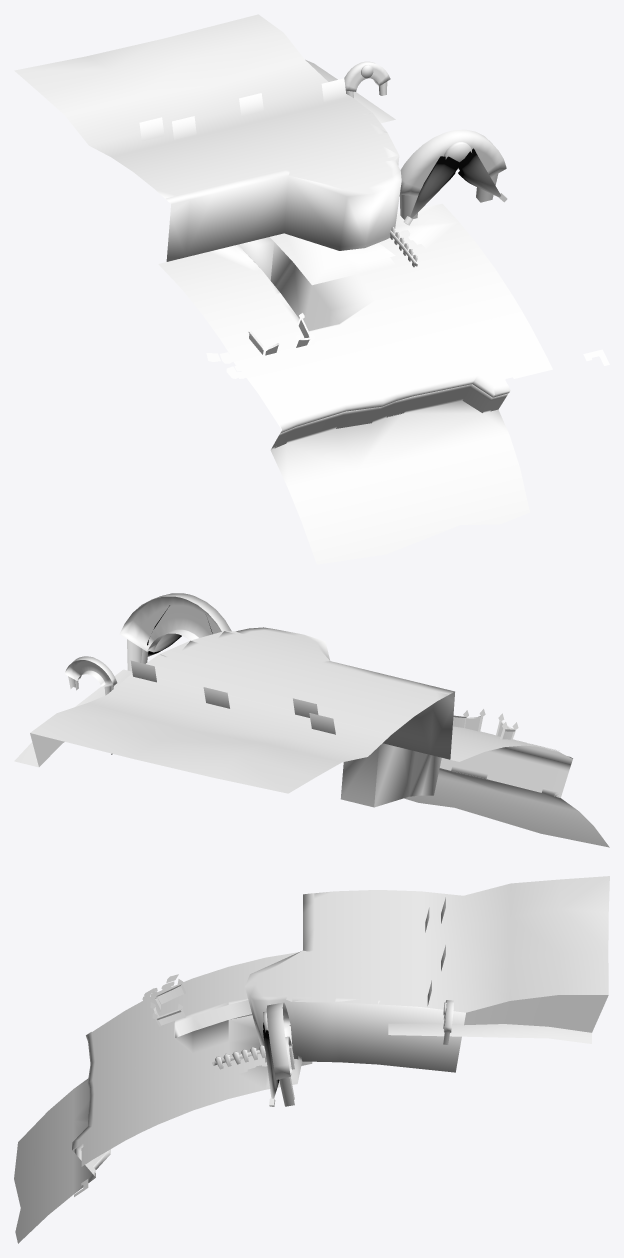
Rendered from grd_Dtn_nc_0.dae.
The picture shows the model from 3 angles, top to bottom: view 1: azimuth 30°, elevation 25°; view 2: azimuth 150°, elevation 25°; view 3: azimuth 270°, elevation 25°; orthographic projection. The views are drawn at different scales.
Visible parts, largest first — view 1: grd_Dtn_nc_0; view 2: grd_Dtn_nc_0; view 3: grd_Dtn_nc_0.
Boxes of the visible parts, left/top/right/bottom form: grd_Dtn_nc_0: left=14, top=14, right=609, bottom=564; grd_Dtn_nc_0: left=14, top=593, right=609, bottom=847; grd_Dtn_nc_0: left=14, top=876, right=609, bottom=1243.
Size of the model in its own units: 673 by 508 by 1006.
Materials: 12 (1 with a texture image).
